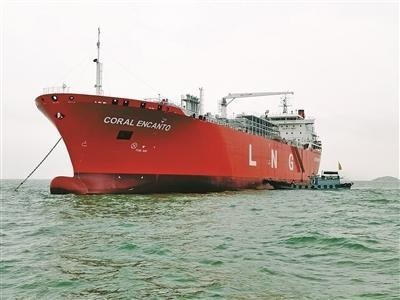Cargoship: (26, 74, 322, 199)
otherboat: (265, 163, 353, 193)
